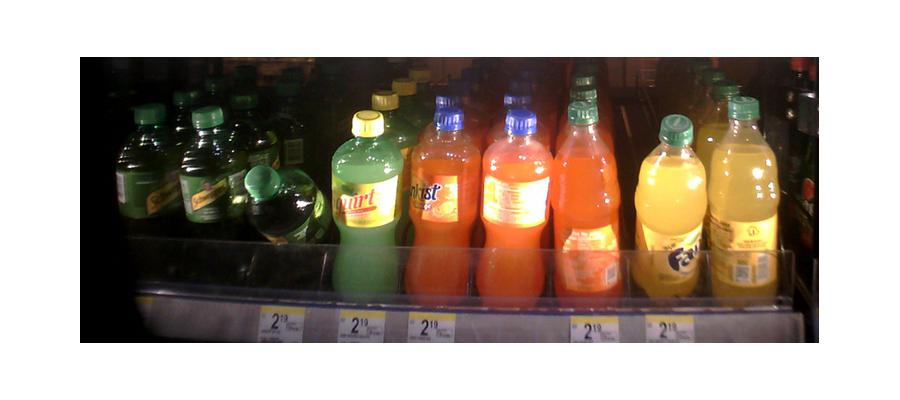bottle: (712, 92, 782, 310), (553, 95, 626, 303), (634, 112, 709, 305), (406, 97, 475, 301), (479, 108, 550, 306), (332, 108, 401, 302), (115, 106, 177, 272), (239, 152, 321, 267), (180, 107, 235, 241)
